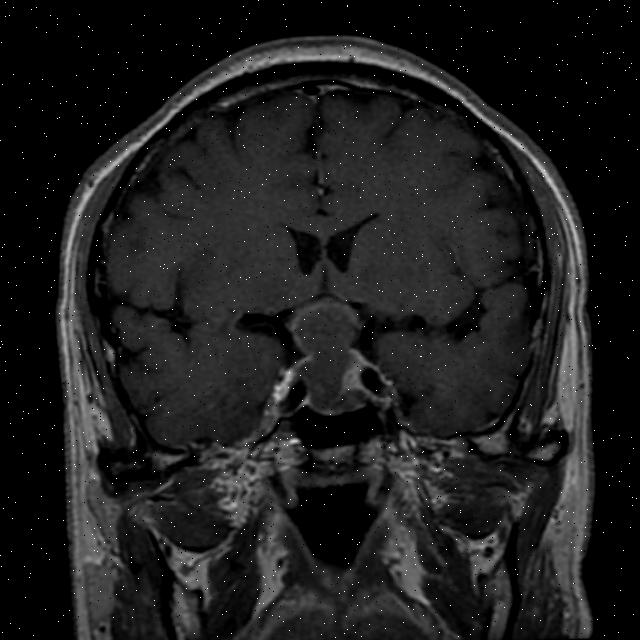Pituitary: (282, 293, 377, 420)
